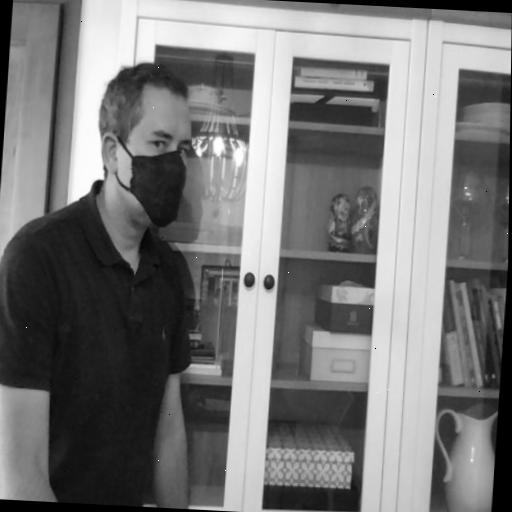mask: (90, 60, 195, 235)
